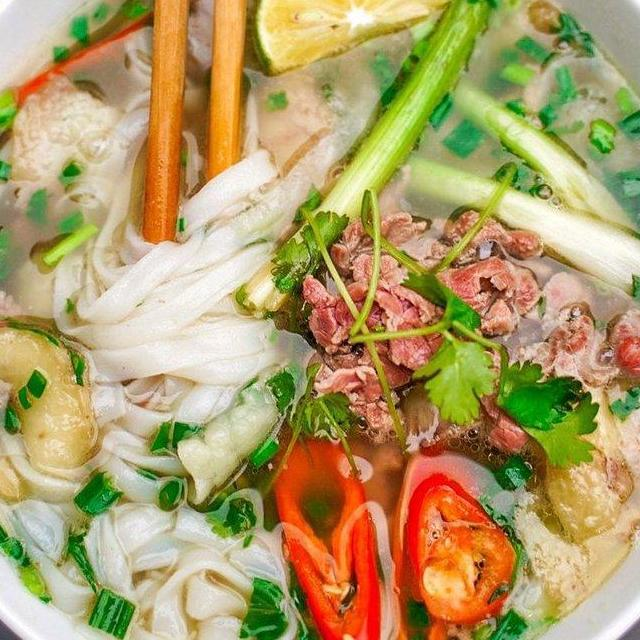banh pho: (40, 135, 315, 510), (0, 452, 308, 640)
pho bo: (0, 38, 640, 640)
thit bo: (320, 196, 552, 380), (283, 260, 431, 447), (513, 263, 640, 403), (0, 265, 32, 450)
